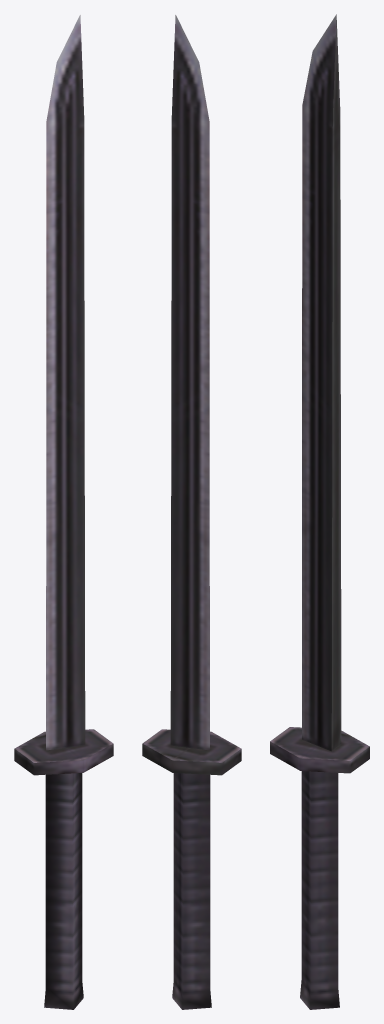
Rendered from Sword13.FBX.
3 views of the same model, side by side, from view 1: azimuth 30°, elevation 25°; view 2: azimuth 150°, elevation 25°; view 3: azimuth 330°, elevation 25° (orthographic).
Visible parts, largest first — view 1: Sword13; view 2: Sword13; view 3: Sword13.
Part boxes in pixels (box(x1,y1,x2,y2)): Sword13: box(14, 15, 113, 1009); Sword13: box(142, 15, 241, 1009); Sword13: box(270, 14, 369, 1009).
Bounding box in the file's own units: 8.47 × 100 × 7.22.
